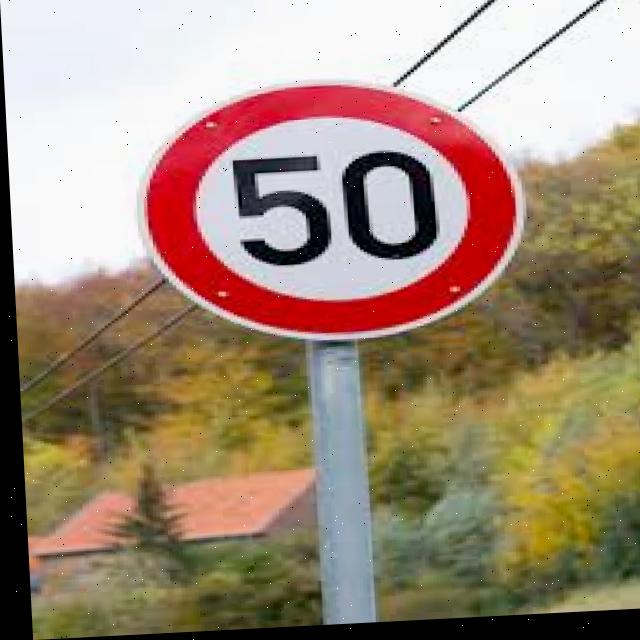Speed limit 50: (128, 76, 530, 354)
